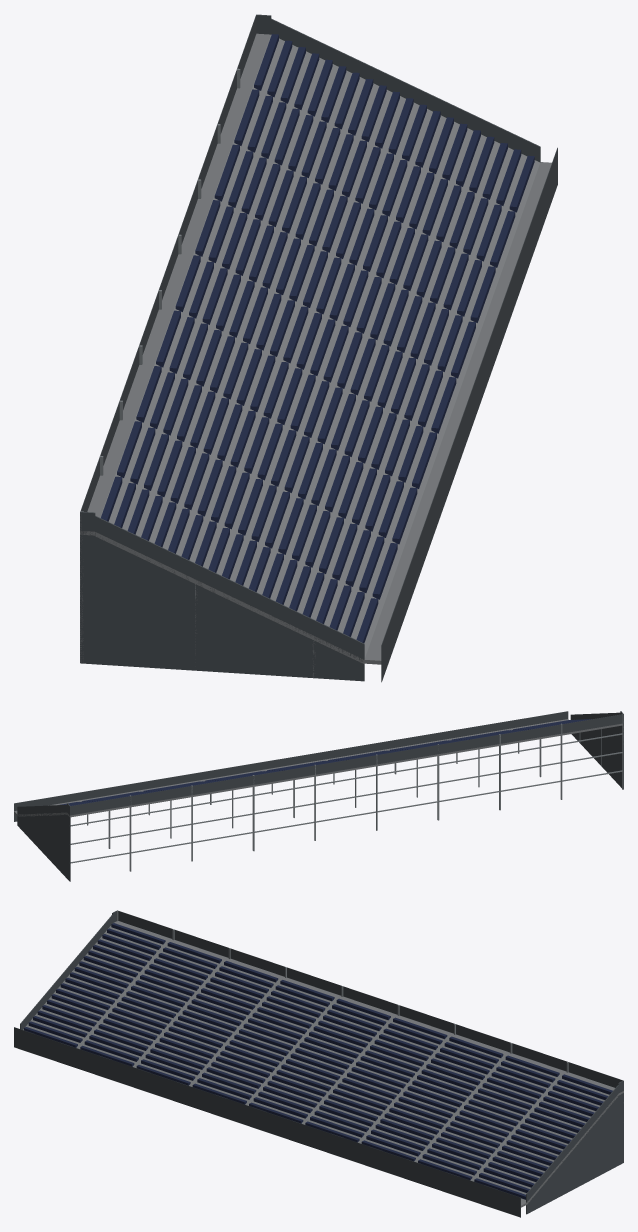
Rendered from sil_stand_hamilton_b2.glb.
3 views of the same model, one above another, from view 1: azimuth 30°, elevation 25°; view 2: azimuth 150°, elevation 25°; view 3: azimuth 270°, elevation 25° (orthographic). The views are drawn at different scales.
Visible parts, largest first — view 1: silverstone-hamilton-b2; view 2: silverstone-hamilton-b2; view 3: silverstone-hamilton-b2.
Boxes of the visible parts, x1,y1,x2,y2 form: silverstone-hamilton-b2: [80, 14, 557, 682]; silverstone-hamilton-b2: [14, 711, 623, 881]; silverstone-hamilton-b2: [14, 910, 623, 1217].
Bounding box in the file's own units: 57.61 × 9.8 × 65.94.
